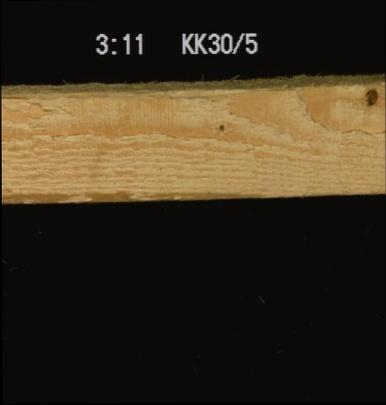dry_knot: (360, 83, 379, 107)
small_knot: (215, 118, 226, 134)
wave: (3, 76, 240, 98)
